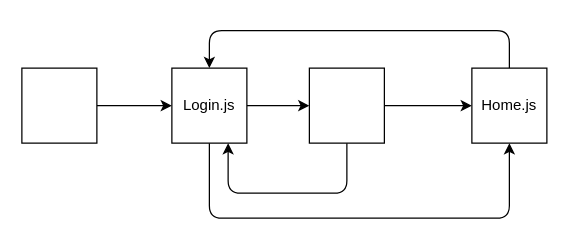
The diagram is 569 pixels wide and 250 high, and some of its shapes have lost their labels. The shapes that lost their labels are listed below. From the top down, each one's centre as x and y in pixels, then its label:
At (59,105): "App.js".
At (346,105): "Register.js".
